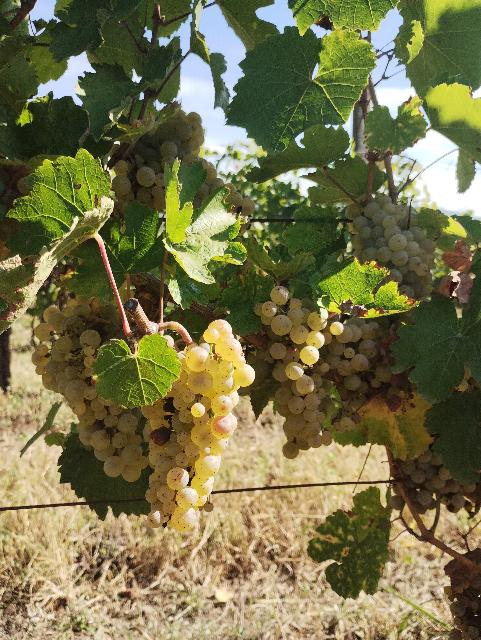grapes: (142, 319, 256, 531), (31, 299, 149, 482), (255, 299, 382, 459), (346, 194, 436, 298)
